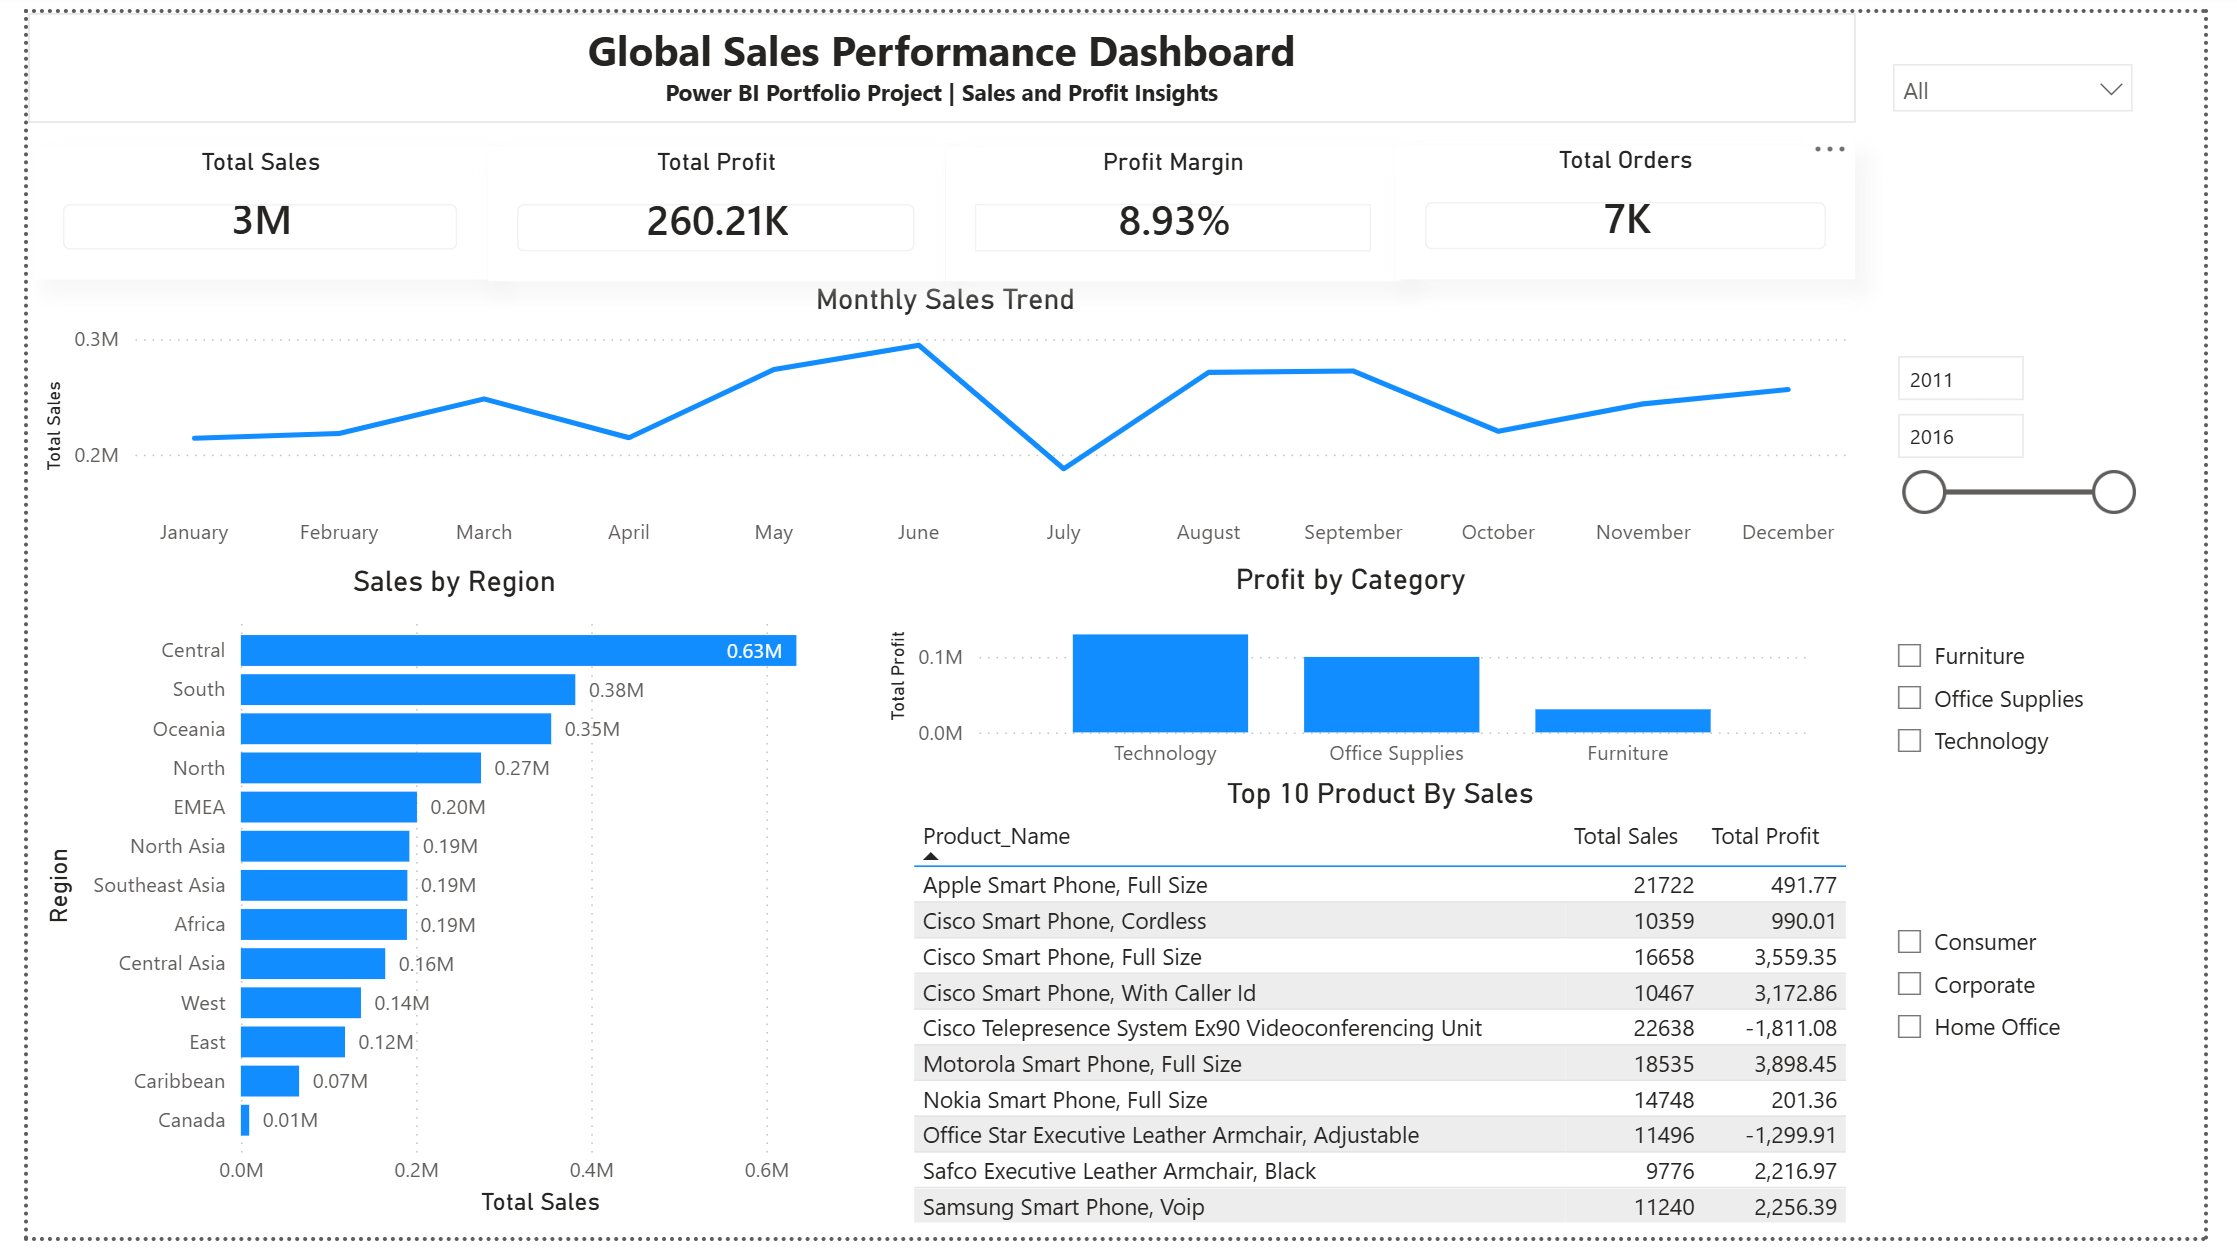

The page's visual inventory and layout, read from the dashboard file:
{"tool":"powerbi","page":{"name":"Global Sales Dashboard","canvas":[1280,720],"ordinal":0},"visuals":[{"type":"shape","box":[1083.7,20.1,163.6,108.2],"z":0},{"type":"cardVisual","title":"Total Sales","fields":{"Data":["Clean_Data.Total Sales"]},"box":[3.8,79,266.8,78],"z":0,"group":"g1"},{"type":"cardVisual","title":"Total Profit","fields":{"Data":["Clean_Data.Total Profit"]},"box":[271.3,79.2,269,78.8],"z":1000,"group":"g1"},{"type":"shape","box":[1083.7,528.6,164.9,113.3],"z":1000},{"type":"cardVisual","title":"Profit Margin","fields":{"Data":["Clean_Data.Profit Margin"]},"box":[540.6,79.2,267.5,78.8],"z":2000,"group":"g1"},{"type":"shape","box":[1083.7,360,164.9,105.7],"z":2000},{"type":"cardVisual","title":"Total Orders","fields":{"Data":["Clean_Data.Total Orders"]},"box":[805.1,78,270.2,78.8],"z":3000,"group":"g1"},{"type":"shape","box":[1083.7,176.2,164.9,105.7],"z":3000},{"type":"lineChart","title":"Monthly Sales Trend","fields":{"Y":["Clean_Data.Total Sales"],"Category":["Date_Table.Date.Variation.Date Hierarchy.Month"]},"box":[5,158.6,1069.8,164.9],"z":4000},{"type":"tableEx","title":"Top 10 Product By Sales","fields":{"Values":["Clean_Data.Product_Name","Clean_Data.Total Sales","Clean_Data.Total Profit"]},"box":[514.8,449.3,560.1,271.9],"z":5000},{"type":"group","id":"g1","title":"Group 2","box":[3.8,78,1071.1,80.6],"z":6000},{"type":"clusteredBarChart","title":"Sales by Region","fields":{"Category":["Clean_Data.Region"],"Y":["Clean_Data.Total Sales"]},"box":[4.9,324.4,492.1,387.6],"z":6000,"group":"g2"},{"type":"group","id":"g2","title":"Group 4","box":[4.9,323.1,1049.8,388.9],"z":7000},{"type":"clusteredColumnChart","title":"Profit by Category","fields":{"Category":["Clean_Data.Category"],"Y":["Clean_Data.Total Profit"]},"box":[501,323.1,553.8,129.6],"z":7000,"group":"g2"},{"type":"slicer","fields":{"Values":["Clean_Data.Region"]},"box":[1087.4,20.1,161.1,108.2],"z":8000},{"type":"slicer","fields":{"Values":["Clean_Data.Category"]},"box":[1087.4,360,161.1,105.7],"z":9000},{"type":"slicer","fields":{"Values":["Clean_Data.Segment"]},"box":[1087.4,528.6,161.1,113.3],"z":10000},{"type":"textbox","box":[0,0,1074.8,64.2],"z":11000},{"type":"slicer","fields":{"Values":["Date_Table.Year"]},"box":[1087.4,191.3,161.1,105.7],"z":12000}]}

Visuals, with their boxes in screenshot pixels (x1, y1, x2, y2), scaled from the page's 1280x720 canvas onto the 2237x1254 screenshot:
shape: {"left": 1894, "top": 35, "right": 2180, "bottom": 223}
"Total Sales" cardVisual: {"left": 7, "top": 138, "right": 473, "bottom": 273}
"Total Profit" cardVisual: {"left": 474, "top": 138, "right": 944, "bottom": 275}
shape: {"left": 1894, "top": 921, "right": 2182, "bottom": 1118}
"Profit Margin" cardVisual: {"left": 945, "top": 138, "right": 1412, "bottom": 275}
shape: {"left": 1894, "top": 627, "right": 2182, "bottom": 811}
"Total Orders" cardVisual: {"left": 1407, "top": 136, "right": 1879, "bottom": 273}
shape: {"left": 1894, "top": 307, "right": 2182, "bottom": 491}
"Monthly Sales Trend" lineChart: {"left": 9, "top": 276, "right": 1878, "bottom": 563}
"Top 10 Product By Sales" tableEx: {"left": 900, "top": 783, "right": 1879, "bottom": 1253}
"Group 2" group: {"left": 7, "top": 136, "right": 1879, "bottom": 276}
"Sales by Region" clusteredBarChart: {"left": 9, "top": 565, "right": 869, "bottom": 1240}
"Group 4" group: {"left": 9, "top": 563, "right": 1843, "bottom": 1240}
"Profit by Category" clusteredColumnChart: {"left": 876, "top": 563, "right": 1843, "bottom": 788}
slicer - Clean_Data.Region: {"left": 1900, "top": 35, "right": 2182, "bottom": 223}
slicer - Clean_Data.Category: {"left": 1900, "top": 627, "right": 2182, "bottom": 811}
slicer - Clean_Data.Segment: {"left": 1900, "top": 921, "right": 2182, "bottom": 1118}
textbox: {"left": 0, "top": 0, "right": 1878, "bottom": 112}
slicer - Date_Table.Year: {"left": 1900, "top": 333, "right": 2182, "bottom": 517}
